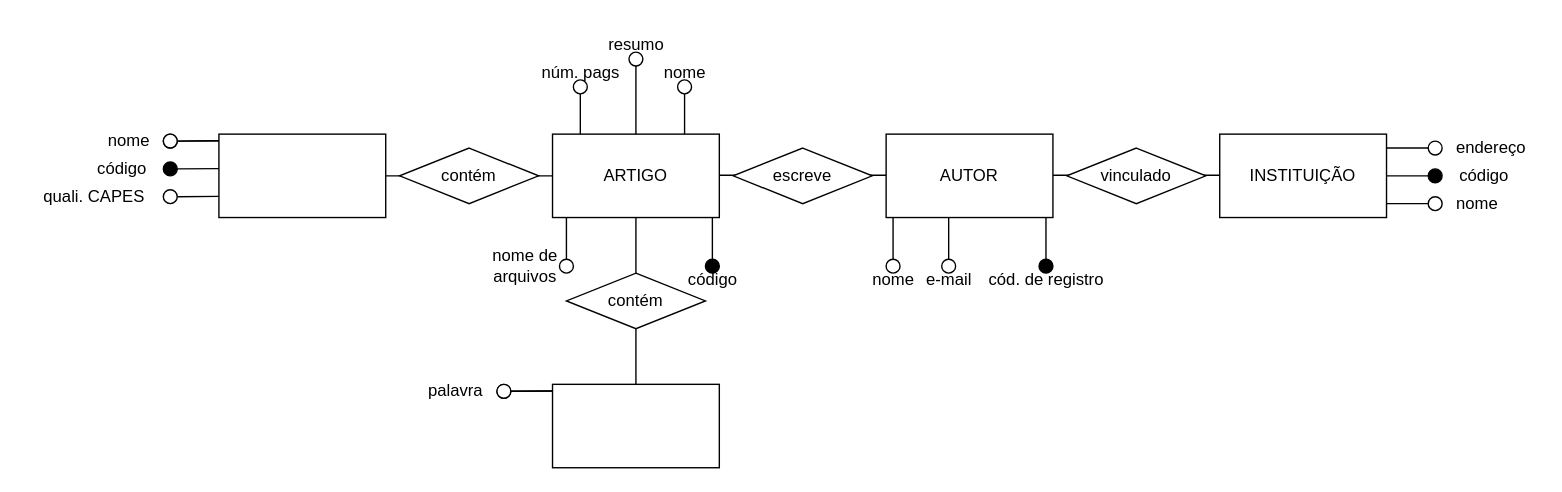
Some shapes in this 1562 by 492 pixel diagram are drawn without their labels. Each missing label, with the centre of its shape:
"PALAVRA-CHAVE" goes at point (635, 425).
"PERIÓDICO" goes at point (302, 175).
